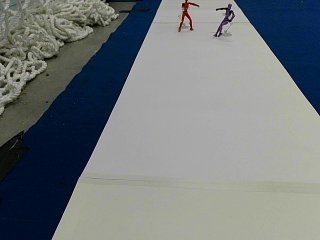pedestrian: (214, 3, 234, 36), (178, 1, 200, 31)
